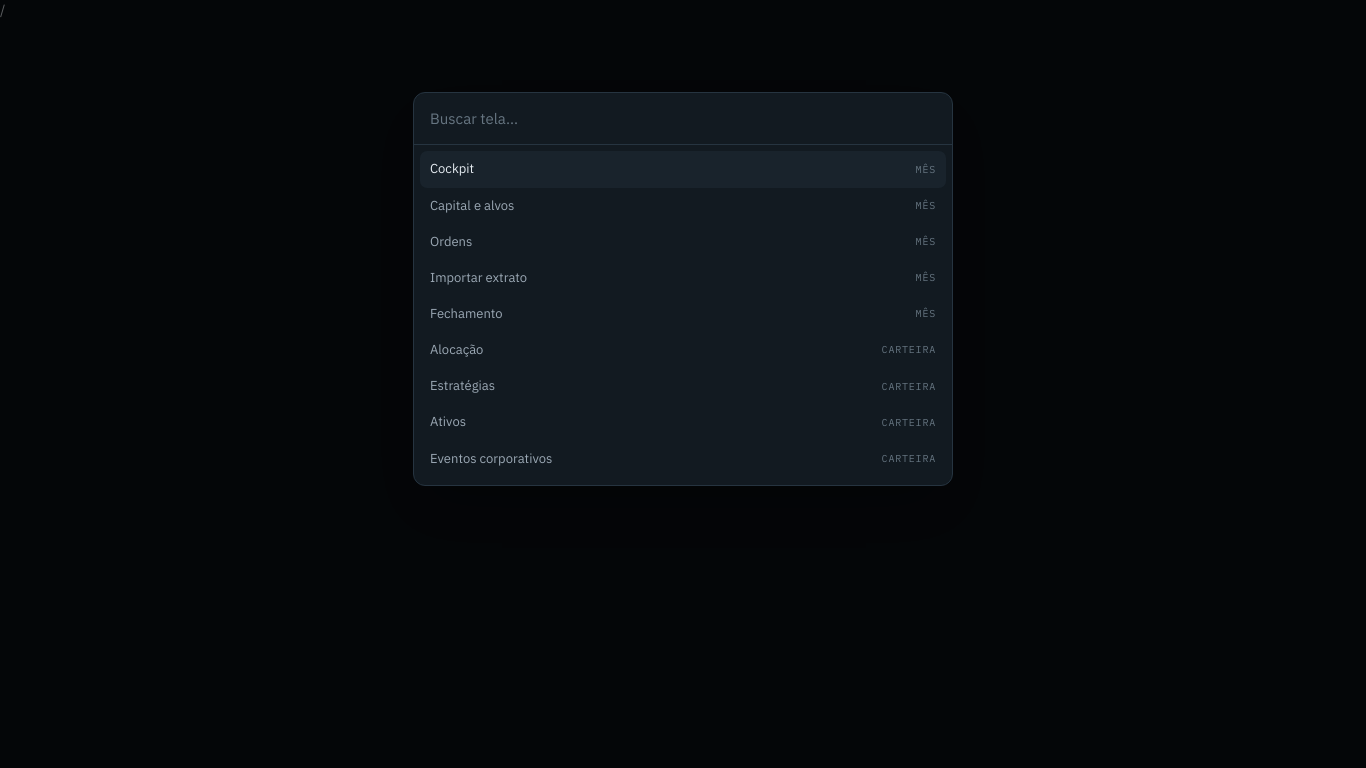
CommandPalette › filters the list while typing
Type "impost" into the field labelled "Buscar tela" at x=683, y=119, box [414,93,952,146]
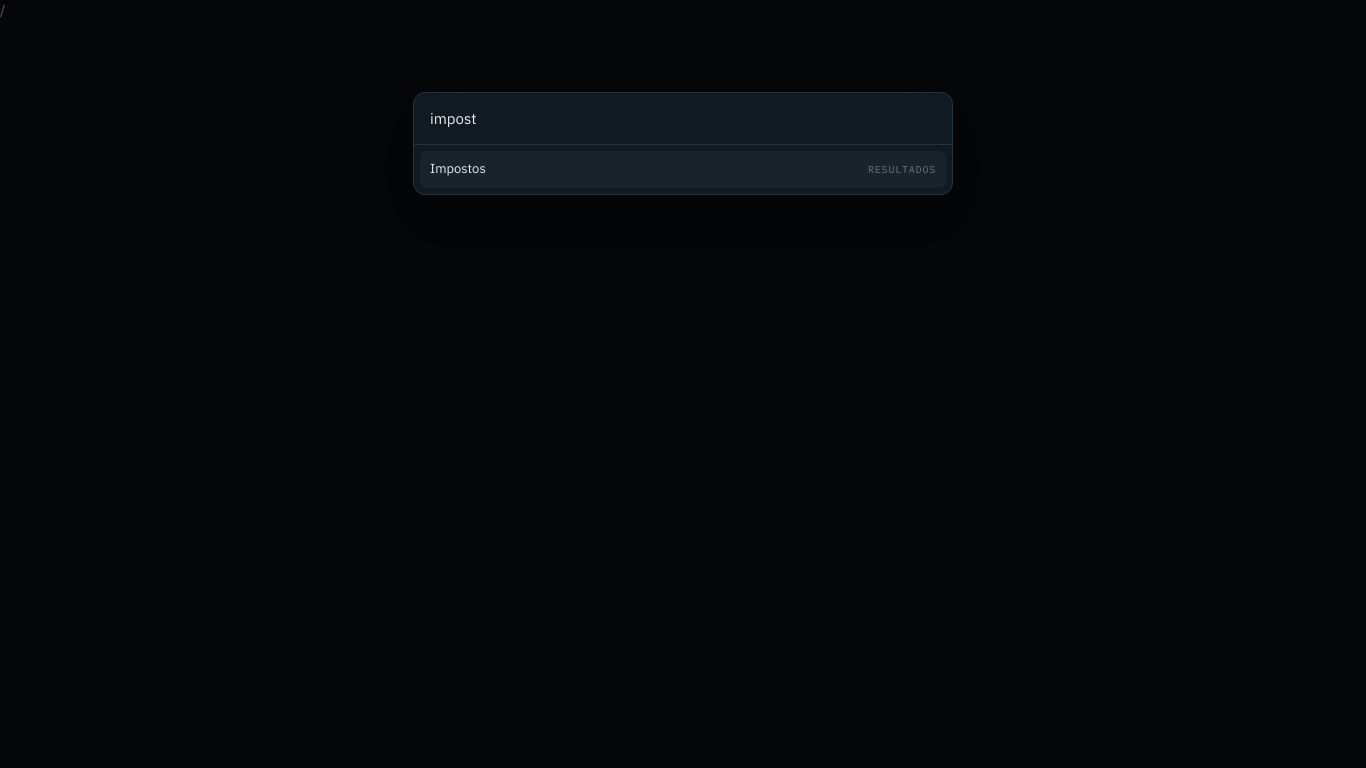
Expected: the button "Impostos Resultados" is shown, [420,151,946,188]
Expected: the button "Cockpit" is gone
